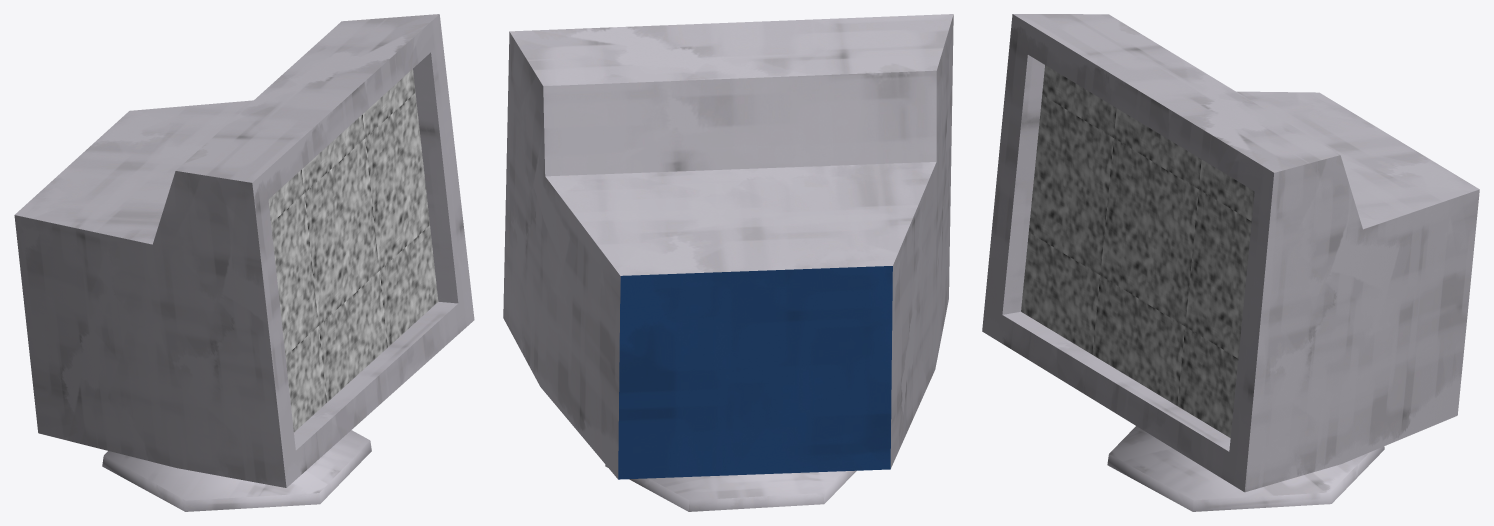
Rendered from 300ducks.fbx.
The picture shows the model from 3 angles, left to right: view 1: azimuth 30°, elevation 25°; view 2: azimuth 150°, elevation 25°; view 3: azimuth 270°, elevation 25°; orthographic projection. The views are drawn at different scales.
Visible parts, largest first — view 1: monitor; view 2: monitor; view 3: monitor.
Boxes of the visible parts, box(x1,y1,x2,y2) form: monitor: box(14, 14, 474, 511); monitor: box(503, 14, 953, 511); monitor: box(982, 14, 1479, 511).
Bounding box in the file's own units: 1.1 × 0.9465 × 1.08.
